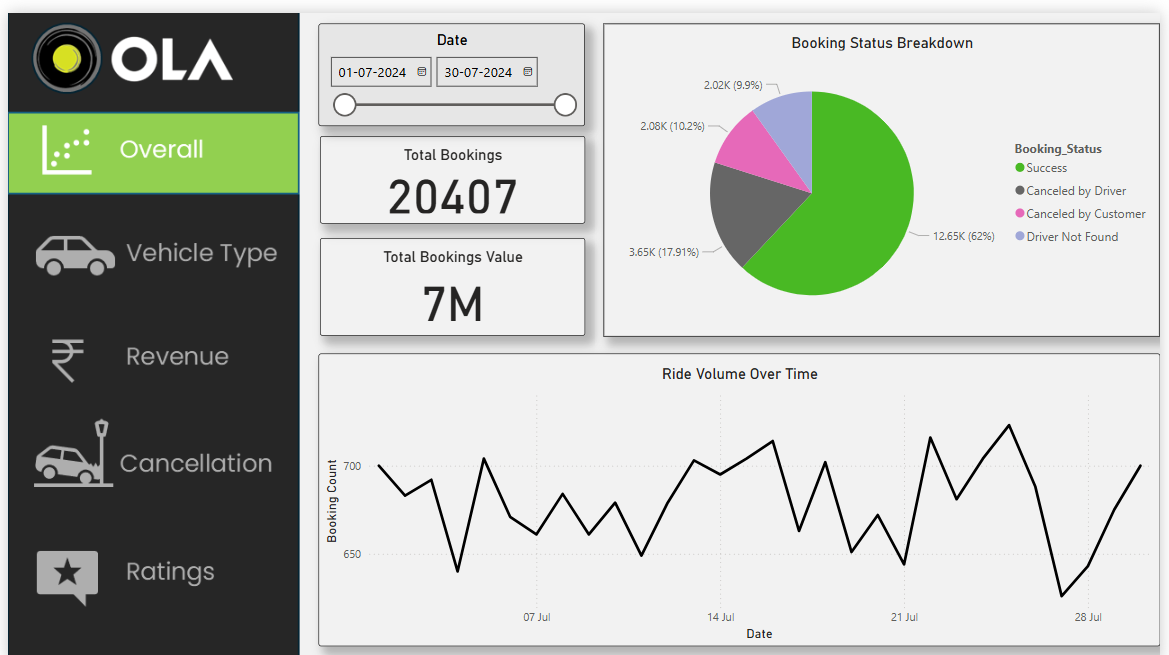

What the dashboard file says about the page in this screenshot:
{"tool":"powerbi","page":{"name":"Overall","canvas":[1280,720],"ordinal":0},"visuals":[{"type":"actionButton","box":[0,328.6,322.1,100.8],"z":0},{"type":"actionButton","box":[0,588.8,322.1,104.1],"z":1000},{"type":"lineChart","title":"Ride Volume Over Time","fields":{"Category":["July.Date"],"Y":["CountNonNull(July.Booking_ID)"]},"box":[344.8,379,935.3,325.3],"z":2000},{"type":"pieChart","title":"Booking Status Breakdown","fields":{"Y":["CountNonNull(July.Booking_Status)"],"Category":["July.Booking_Status"]},"box":[662,11.4,618.1,348.1],"z":3000},{"type":"slicer","title":"Date","fields":{"Values":["July.Date"]},"box":[344.8,11.4,296,113.9],"z":4000},{"type":"card","title":"Total Bookings","fields":{"Values":["Count(July.Booking_ID)"]},"box":[346.5,136.6,294.4,97.6],"z":5000},{"type":"card","title":"Total Bookings Value","fields":{"Values":["Sum(July.Booking_Value)"]},"box":[346.5,250.5,294.4,109],"z":6000},{"type":"actionButton","box":[0,226.1,322.1,92.7],"z":7000},{"type":"actionButton","box":[0,453.8,322.1,104.1],"z":8000}]}

Visuals, with their boxes in screenshot pixels (x1, y1, x2, y2), scaled from the page's 1280x720 canvas onto the 1169x655 screenshot:
actionButton: 0 299 294 391
actionButton: 0 536 294 630
"Ride Volume Over Time" lineChart: 315 345 1168 641
"Booking Status Breakdown" pieChart: 605 10 1168 327
"Date" slicer: 315 10 585 114
"Total Bookings" card: 316 124 585 213
"Total Bookings Value" card: 316 228 585 327
actionButton: 0 206 294 290
actionButton: 0 413 294 508
